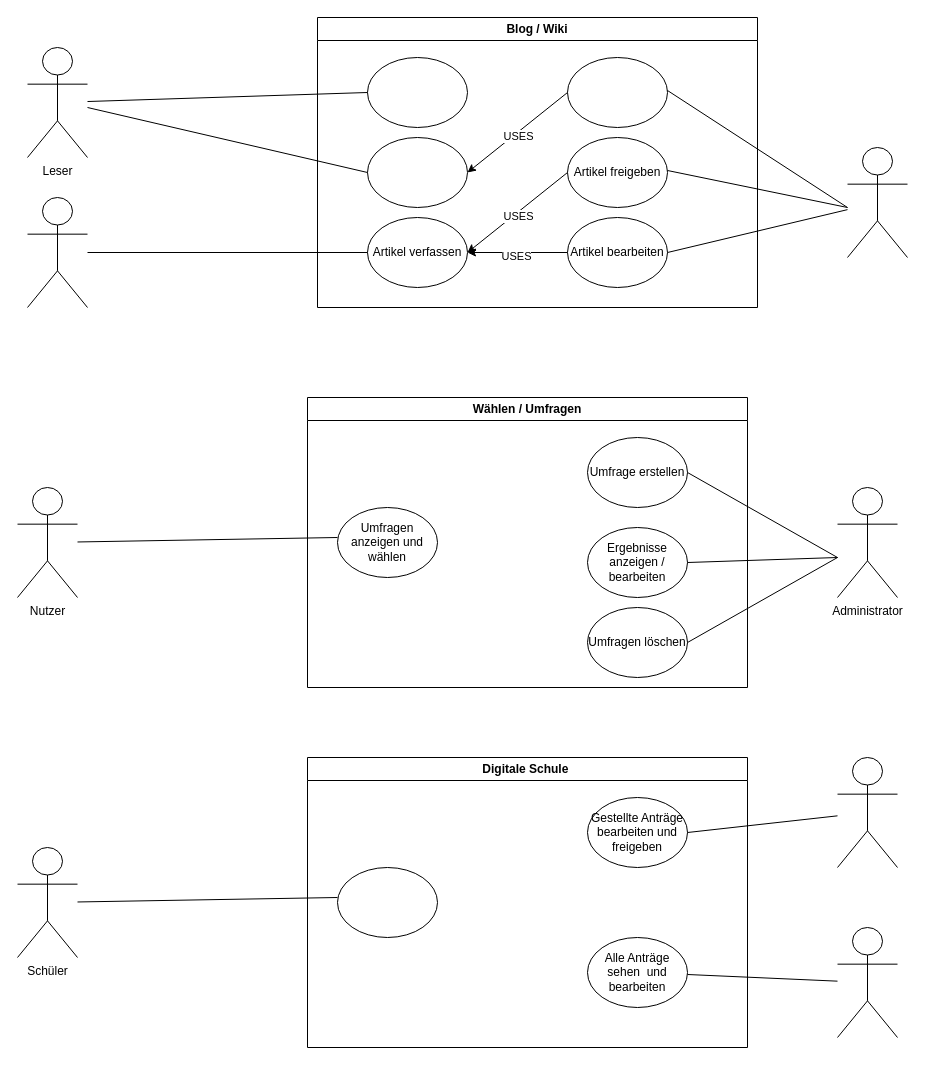
Image size: 925x1076. Some labels were removed from this diagram. The shapes that lost their labels are listed below. From the top down, each one's centre as x and y in pixels, then its label:
(x=417, y=92): Artikel lesen
(x=617, y=92): Kommentare bearbeiten
(x=417, y=172): Kommentar schreiben
(x=877, y=202): Redakteur
(x=57, y=252): Autor
(x=867, y=812): Tutor
(x=387, y=902): Digital Anträge einreichen (z.B. Befreiung)
(x=867, y=982): Schulleitung
